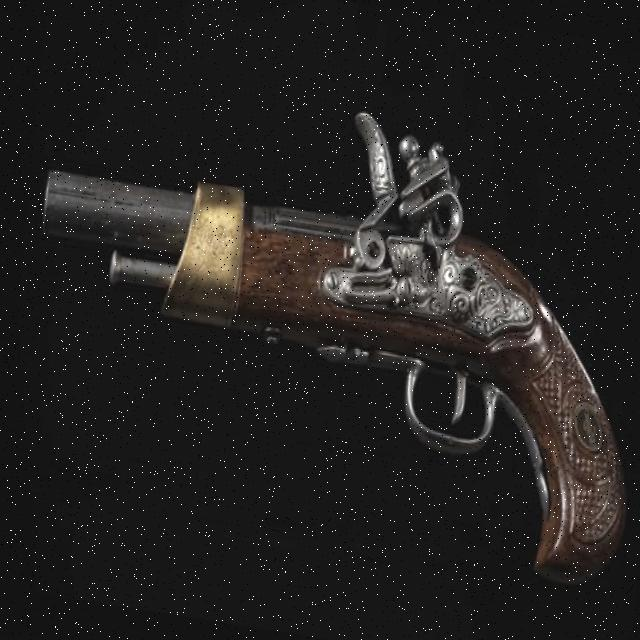pistol: (3, 62, 640, 594)
